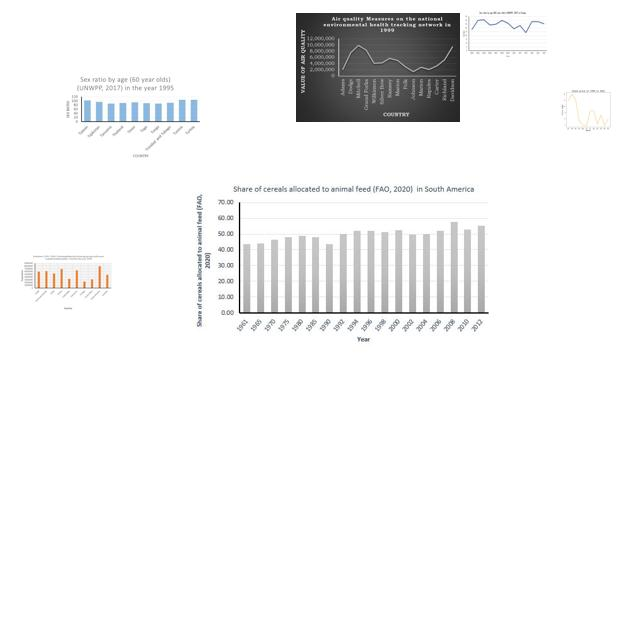Graph: (191, 179, 493, 349), (296, 13, 460, 122), (62, 73, 204, 161), (19, 254, 113, 310), (462, 11, 548, 58), (555, 87, 620, 132)
